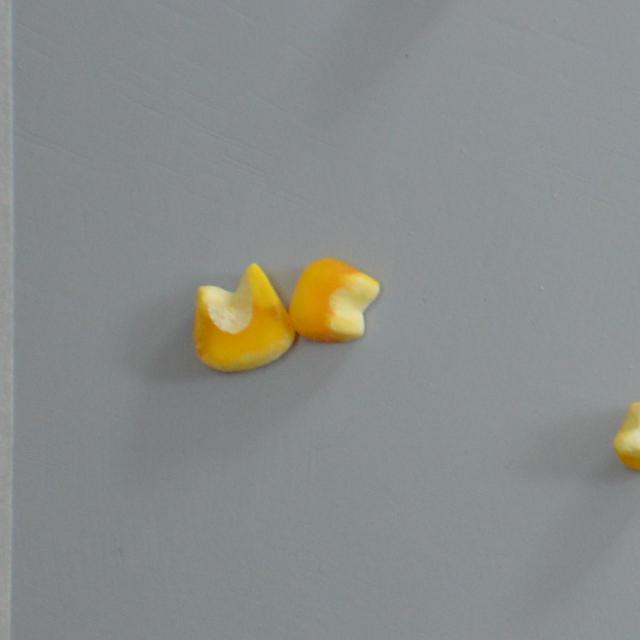no_canjicado: (192, 262, 295, 374), (289, 257, 380, 342)
no_desgerminado: (612, 396, 640, 472)
